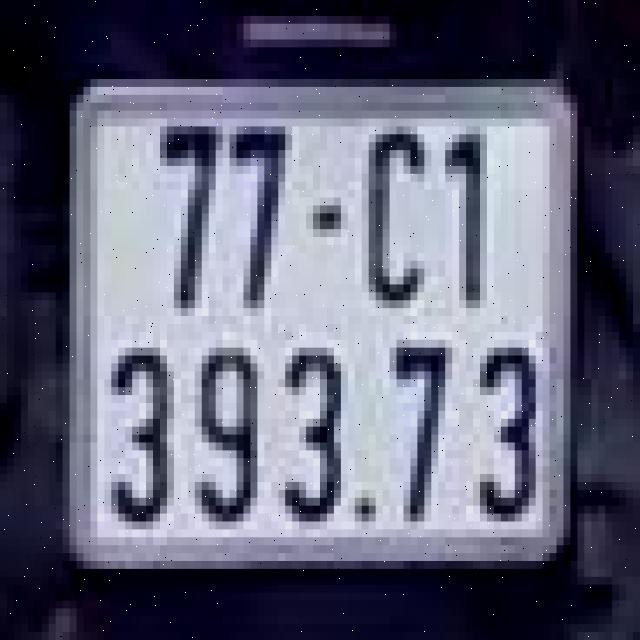1: (442, 115, 497, 312)
3: (261, 316, 344, 529), (104, 324, 174, 529), (477, 324, 546, 529)
7: (369, 328, 452, 541), (219, 110, 296, 332), (143, 111, 226, 316)
9: (188, 340, 264, 529)
C: (355, 110, 445, 364)
